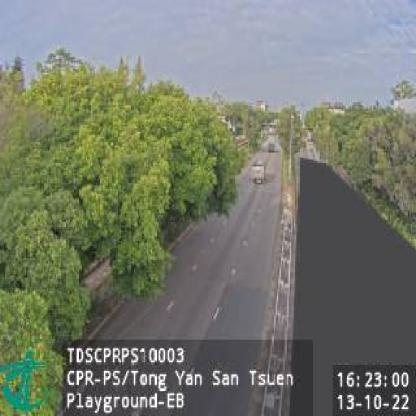Car: (253, 162, 265, 184)
